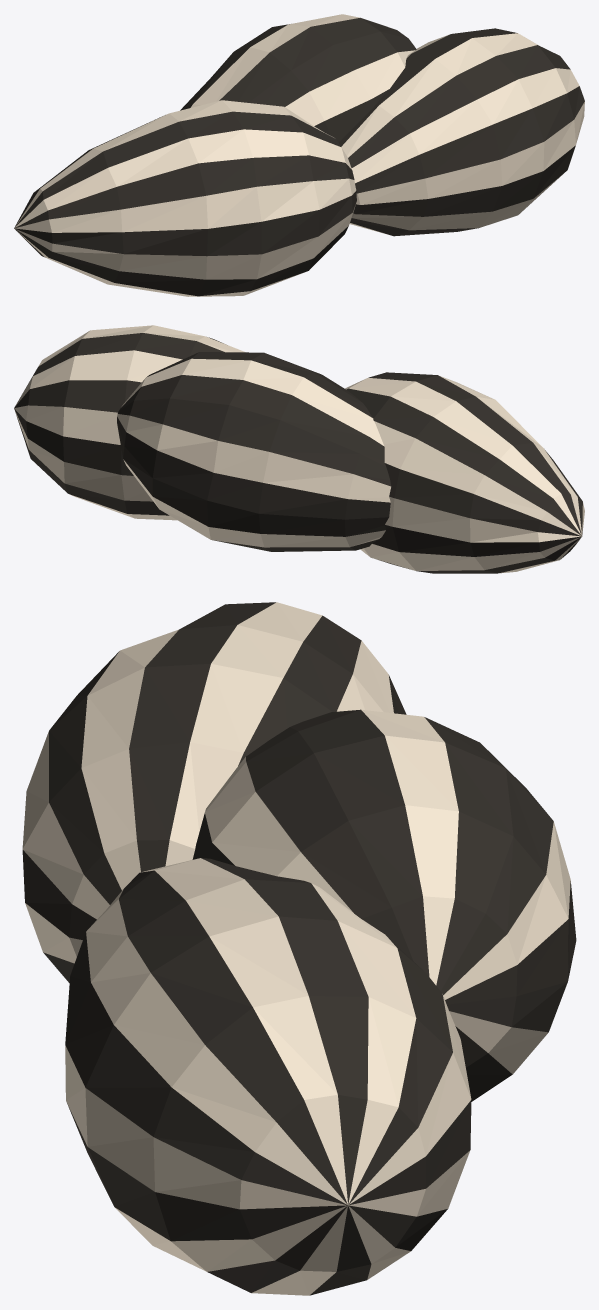
File: sunflowerseed.glb
3 renders of one model, top to bottom at view 1: azimuth 30°, elevation 25°; view 2: azimuth 150°, elevation 25°; view 3: azimuth 270°, elevation 25°, orthographic. The views are drawn at different scales.
Size of the model in its own units: 3.28 by 1.13 by 1.4.
